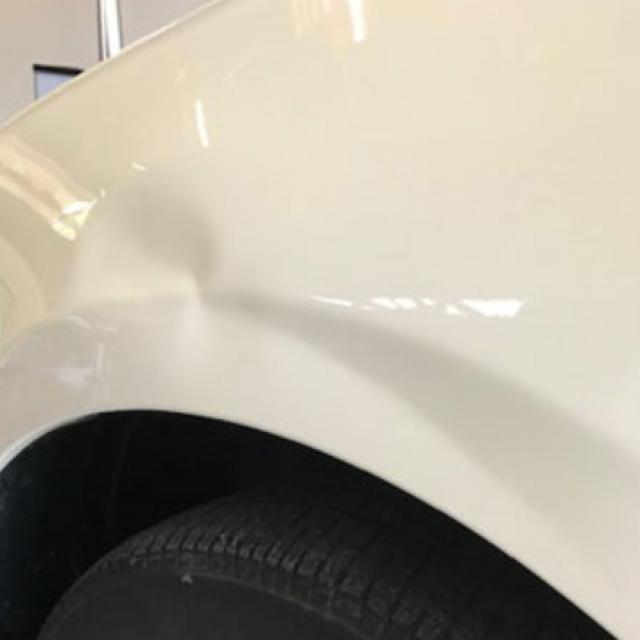dents: (68, 158, 230, 347)
